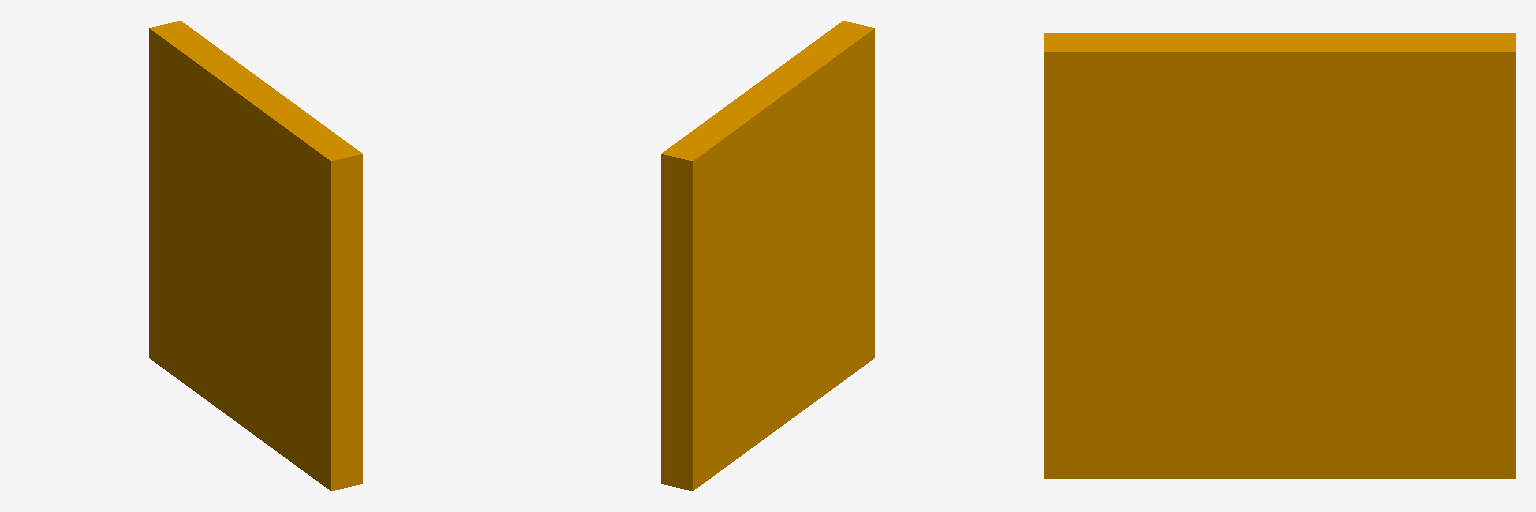
URDF robot description (line_box):
<?xml version="1.0"?>
<robot name="line_box">
    <link name="base_link">
        <inertial>
            <origin xyz="0 0 0" rpy="0 0 0"/>
            <mass value="0.4"/>
            <inertia ixx="0.002333333"  ixy="0"  ixz="0" iyy="0.002333333" iyz="0" izz="0.002" />
        </inertial>

        <visual>
            <origin xyz="0 0 0" rpy="0 0 0" />
            <geometry>
                <mesh filename="line_box.dae" scale="0.1 1 1" />
            </geometry>
        </visual>

        <collision>
            <origin xyz="0 0 0" rpy="0 0 0"/>
            <geometry>
                <mesh filename="line_box.dae" scale="0.1 1 1" />
            </geometry>
        </collision>
    </link>
</robot>

--- Facts derived from the render (not from the file) ---
3 views of the same robot in one strip: view 1: azimuth 30°, elevation 25°; view 2: azimuth 150°, elevation 25°; view 3: azimuth 270°, elevation 25° (orthographic).
Robot: line_box — 1 links, 0 joints (none); root link base_link; default pose: all joints at 0.
Links seen in each view (by area): view 1: base_link; view 2: base_link; view 3: base_link.
Boxes of the visible links, left/top/right/bottom form: base_link: left=149, top=21, right=362, bottom=490; base_link: left=661, top=21, right=874, bottom=490; base_link: left=1044, top=33, right=1515, bottom=478.
Bounding box of the posed robot: 0.2 × 2 × 2 m (x, y, z).
Meshes: 1 distinct files referenced, 1 mesh visuals loaded (1 Collada DAE).